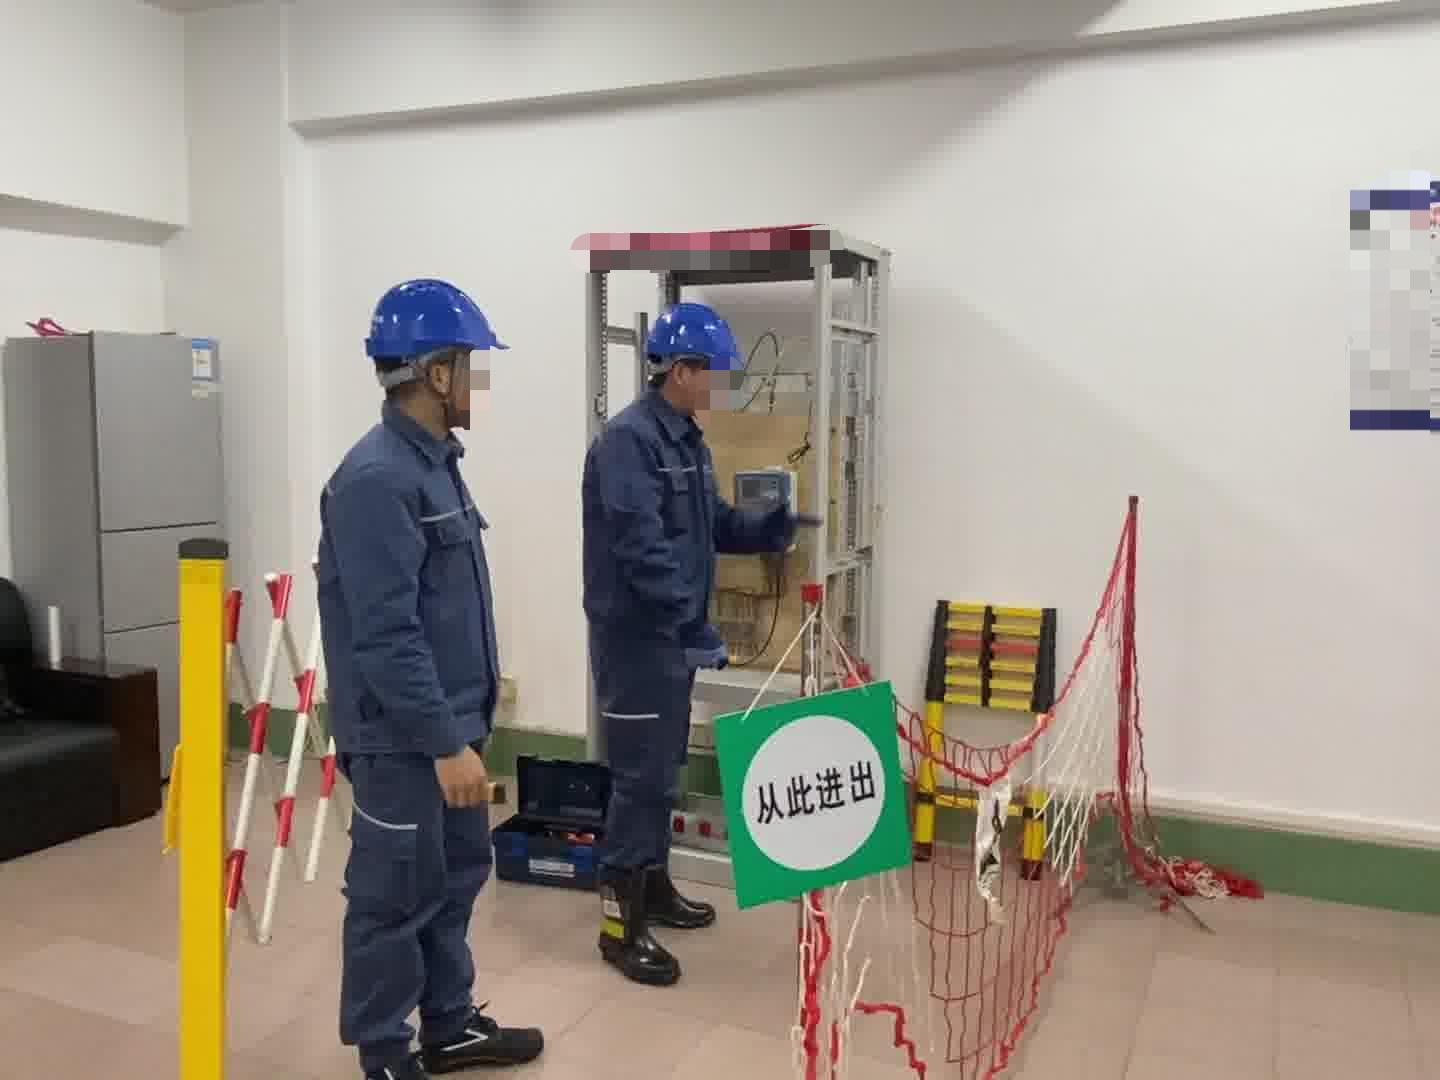halt: (362, 279, 510, 436), (644, 305, 749, 419)
inear: (408, 351, 467, 420)
noear: (666, 358, 702, 406)
